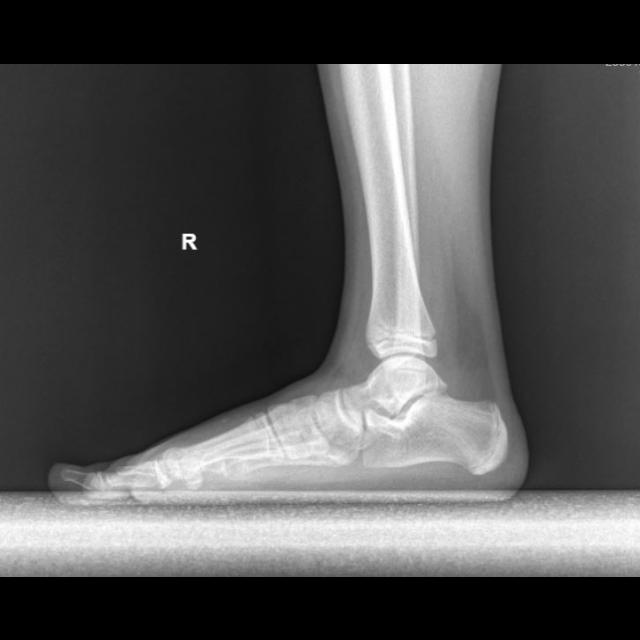a: (363, 391, 508, 474)
b: (316, 388, 361, 451)
c: (165, 410, 286, 477)
